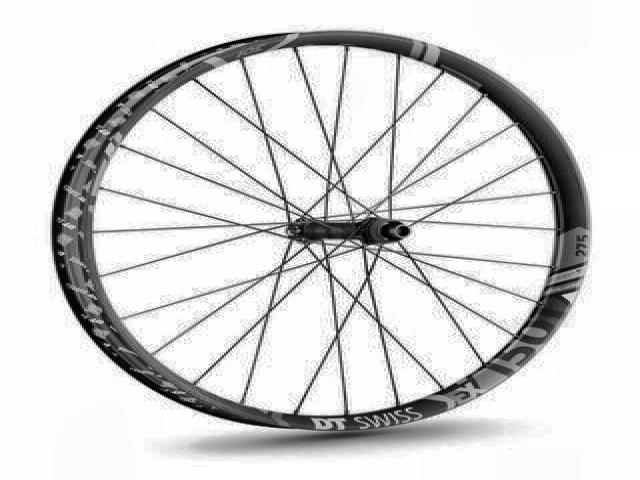wheel: (42, 25, 594, 438)
